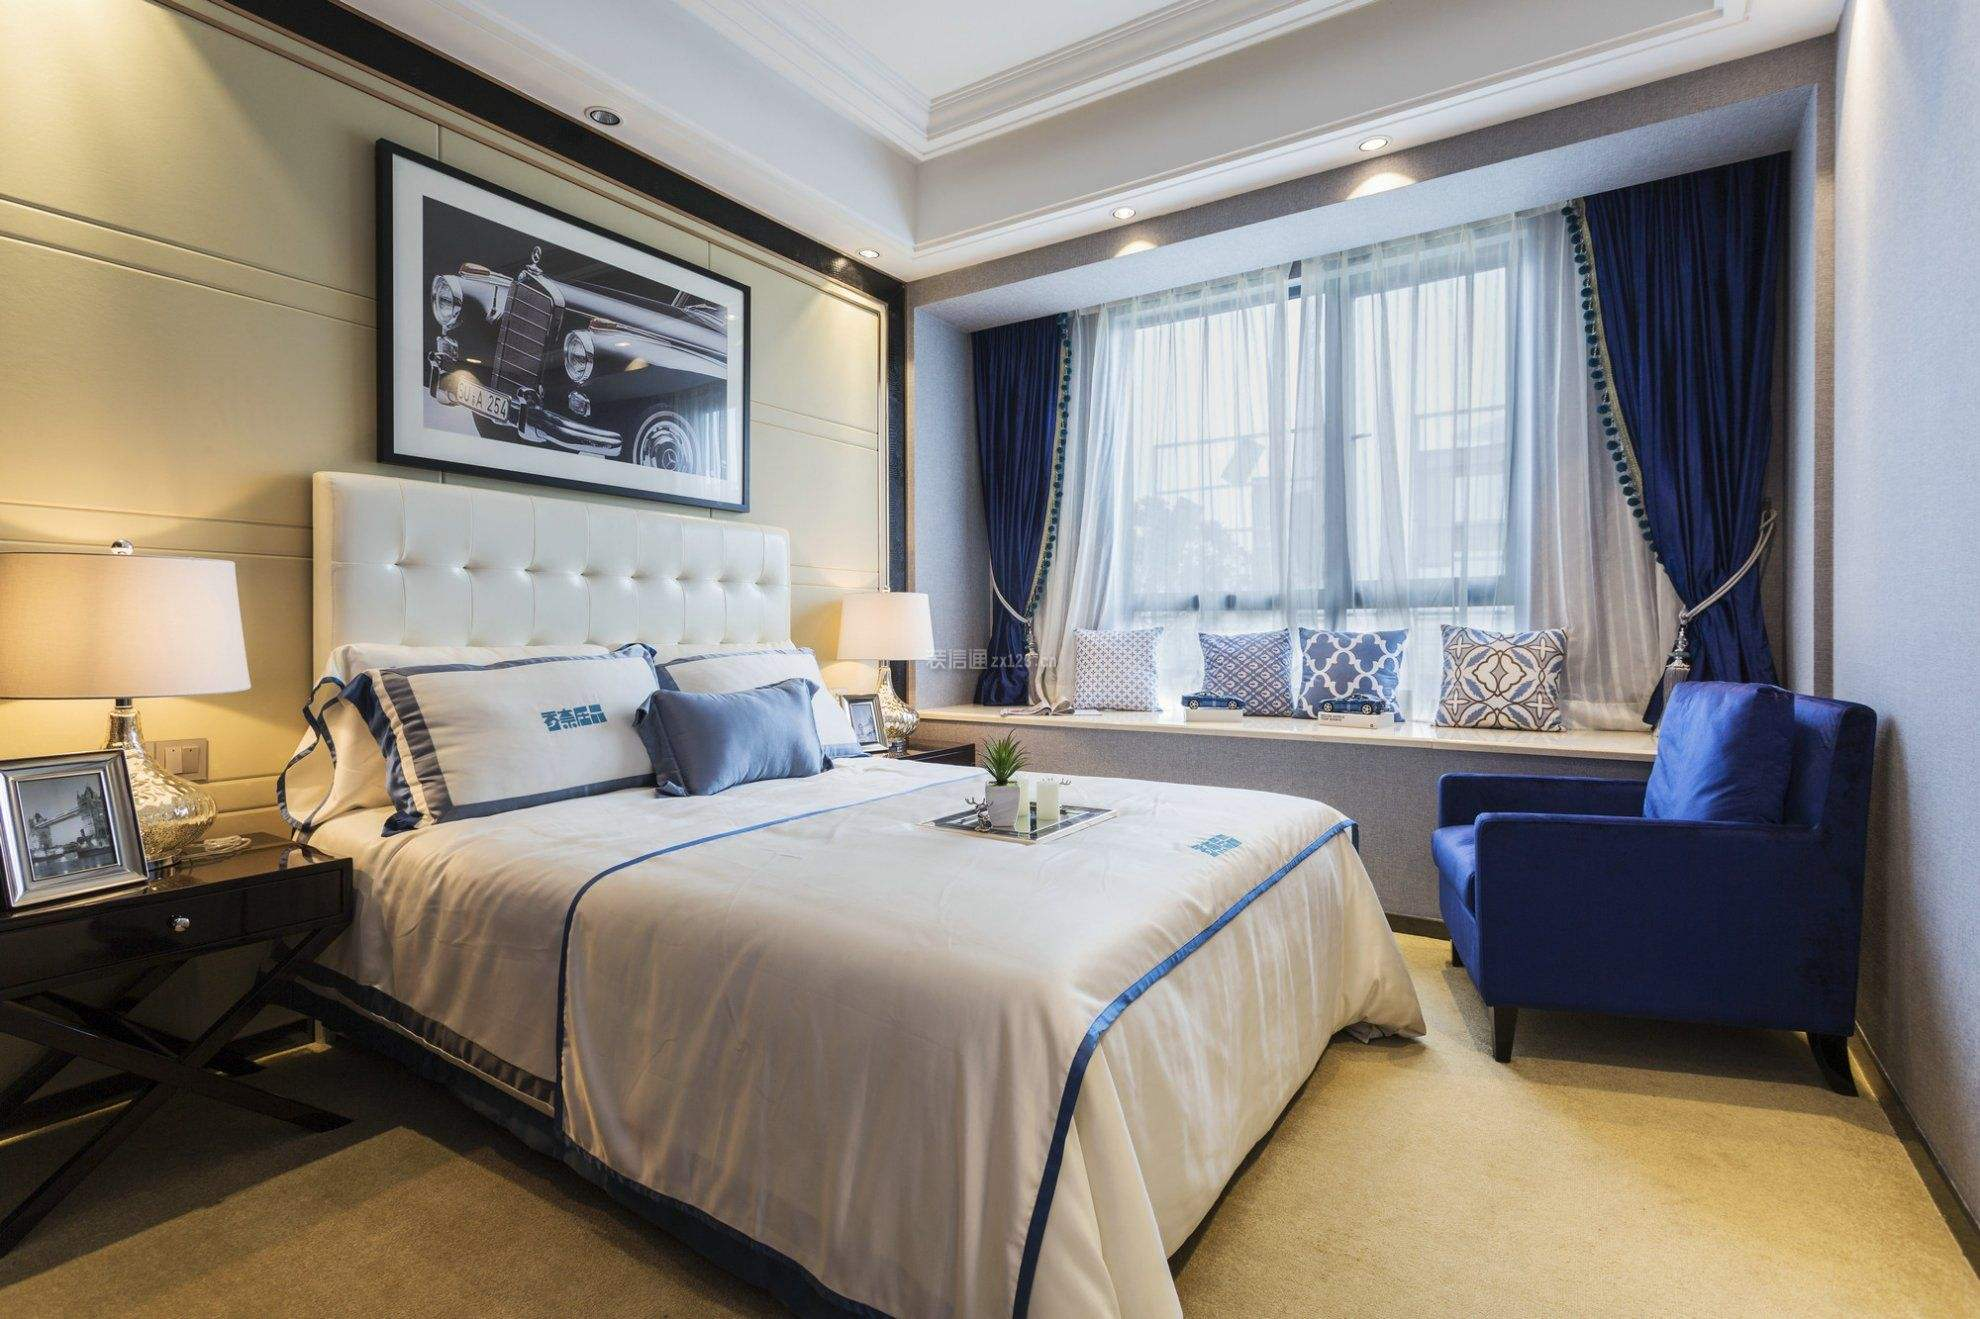床: (306, 745, 1401, 1276)
枕头: (342, 640, 871, 829), (1060, 604, 1577, 738), (1641, 676, 1864, 841)
灯: (21, 530, 255, 880), (827, 587, 936, 740), (1348, 144, 1399, 199), (1109, 219, 1145, 256), (584, 106, 630, 135)
